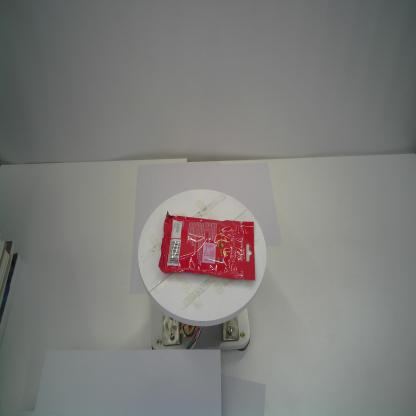Candy: (158, 211, 256, 280)
